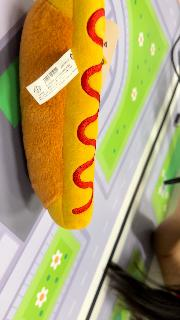hotdog: (18, 1, 106, 231)
